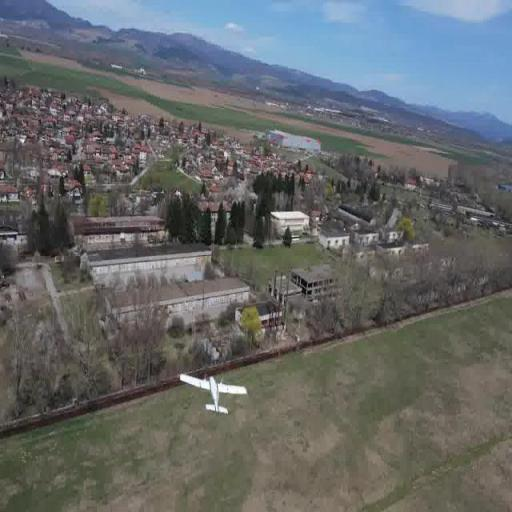uav: (180, 367, 252, 422)
